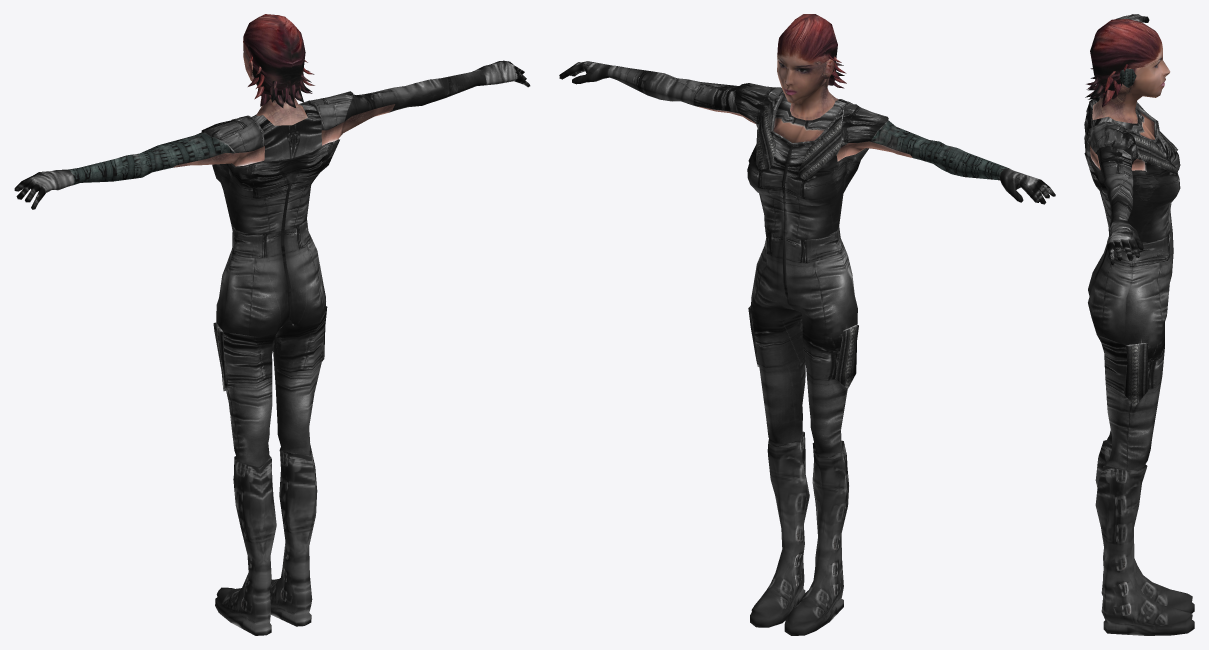
The model's file is mechfemale_lod1.obj.
3 views of the same model, side by side, from view 1: azimuth 30°, elevation 25°; view 2: azimuth 150°, elevation 25°; view 3: azimuth 270°, elevation 25° (orthographic). The views are drawn at different scales.
Parts seen in each view (by area): view 1: mech_female_lod1; view 2: mech_female_lod1; view 3: mech_female_lod1.
Boxes of the visible parts, left/top/right/bottom form: mech_female_lod1: left=14, top=14, right=530, bottom=635; mech_female_lod1: left=559, top=14, right=1055, bottom=635; mech_female_lod1: left=1084, top=14, right=1194, bottom=635.
Bounding box in the file's own units: 61.55 × 70.75 × 11.81.
